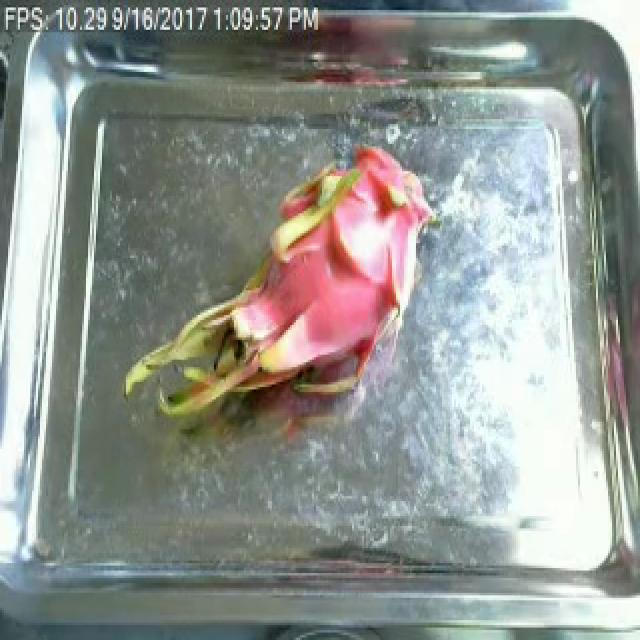fruit: (108, 119, 432, 466)
